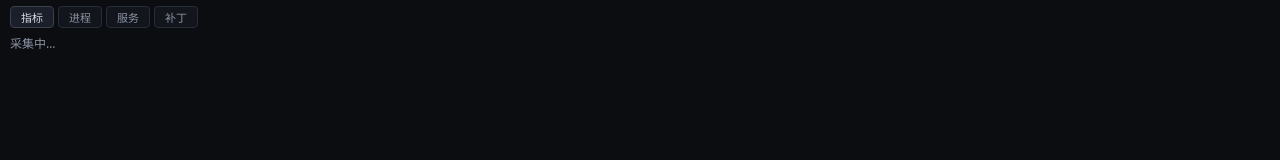
Test: MonitorPanel 进程页签 › 过滤按 PID/用户/命令生效，并更新计数
Step 1. Click the button with test id "mon-tab-procs" → (80, 17), box [58,6,102,28]
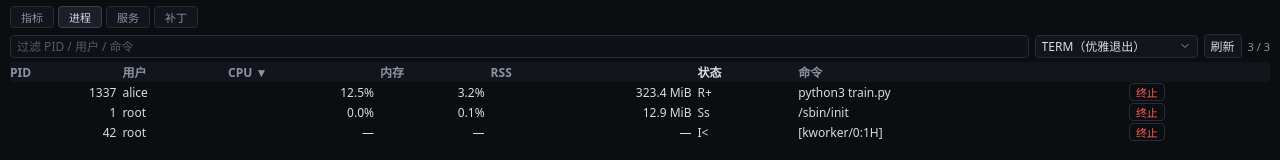
Check: the table with test id "proc-table" is shown, box [10,62,1270,142]
Step 2. Type "alice" into the search field with test id "proc-filter" → (519, 46), box [10,34,1029,58]
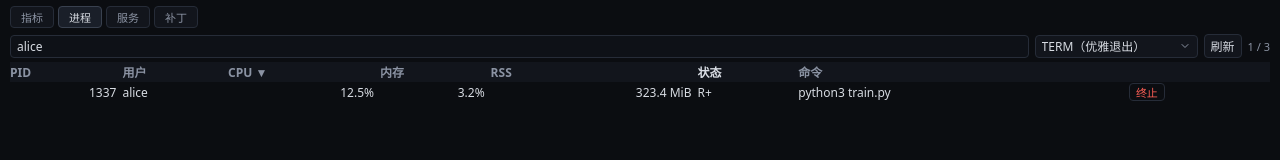
Check: the text with test id "proc-count" reads "1 / 3", box [1248,38,1270,54]
Check: the element with test id "monitor-panel" no longer shows "[kworker/0:1H]"
